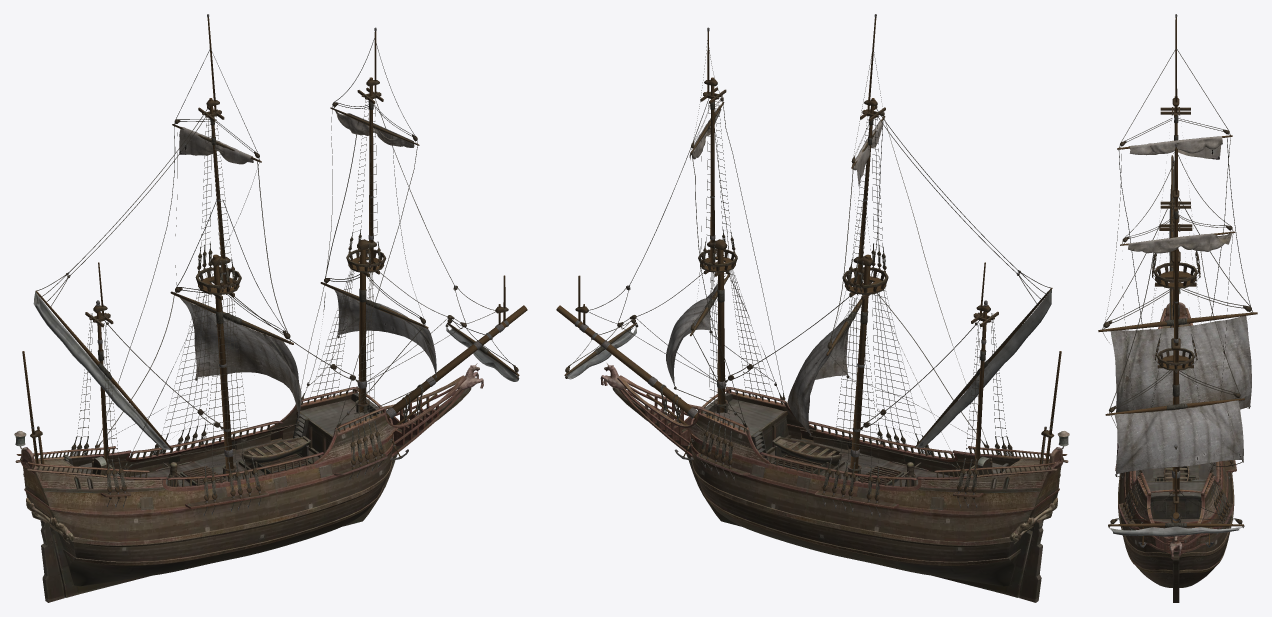
Rendered from dutch_ship_medium.glb.
3 renders of one model, left to right at view 1: azimuth 30°, elevation 25°; view 2: azimuth 150°, elevation 25°; view 3: azimuth 270°, elevation 25°, orthographic. The views are drawn at different scales.
Parts seen in each view (by area): view 1: dutch_ship_medium_hull, dutch_ship_medium_rigging, dutch_ship_medium_sails; view 2: dutch_ship_medium_hull, dutch_ship_medium_rigging, dutch_ship_medium_sails; view 3: dutch_ship_medium_sails, dutch_ship_medium_rigging, dutch_ship_medium_hull.
Part boxes in pixels (x1=…): dutch_ship_medium_hull: x1=14, y1=363, x2=483, y2=602; dutch_ship_medium_rigging: x1=22, y1=14, x2=527, y2=516; dutch_ship_medium_sails: x1=179, y1=111, x2=436, y2=419; dutch_ship_medium_hull: x1=600, y1=363, x2=1069, y2=602; dutch_ship_medium_rigging: x1=556, y1=14, x2=1061, y2=516; dutch_ship_medium_sails: x1=666, y1=104, x2=882, y2=433; dutch_ship_medium_sails: x1=1110, y1=136, x2=1251, y2=474; dutch_ship_medium_rigging: x1=1098, y1=14, x2=1257, y2=547; dutch_ship_medium_hull: x1=1115, y1=289, x2=1236, y2=602.
Bounding box in the file's own units: 24.07 × 24.66 × 6.81.
3 materials, 3 textured.
